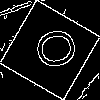O: (25, 25, 79, 75)
